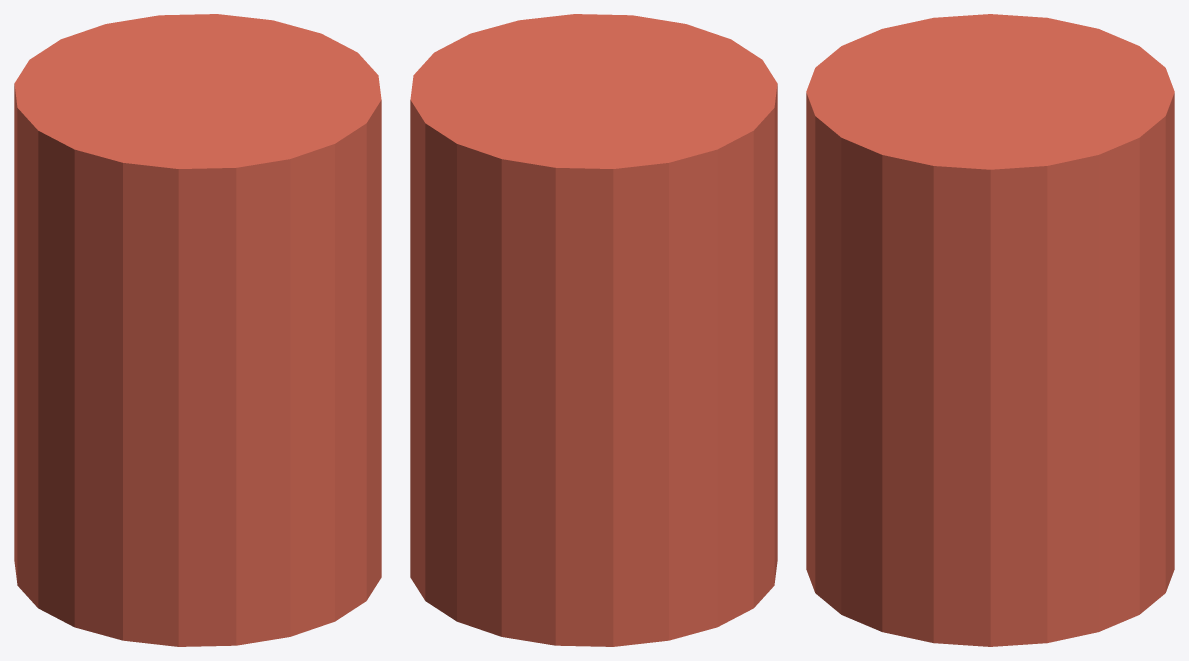
Rendered from barrel.gltf.
The picture shows the model from 3 angles, left to right: view 1: azimuth 30°, elevation 25°; view 2: azimuth 150°, elevation 25°; view 3: azimuth 270°, elevation 25°; orthographic projection.
Bounding box in the file's own units: 0.7 × 1 × 0.7.
